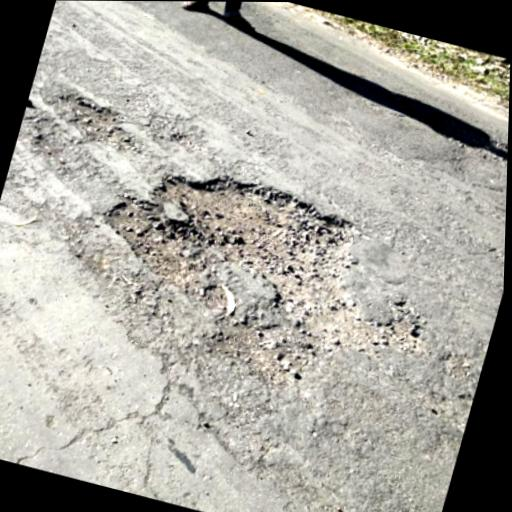pothole: (65, 140, 461, 420), (45, 86, 130, 148)
